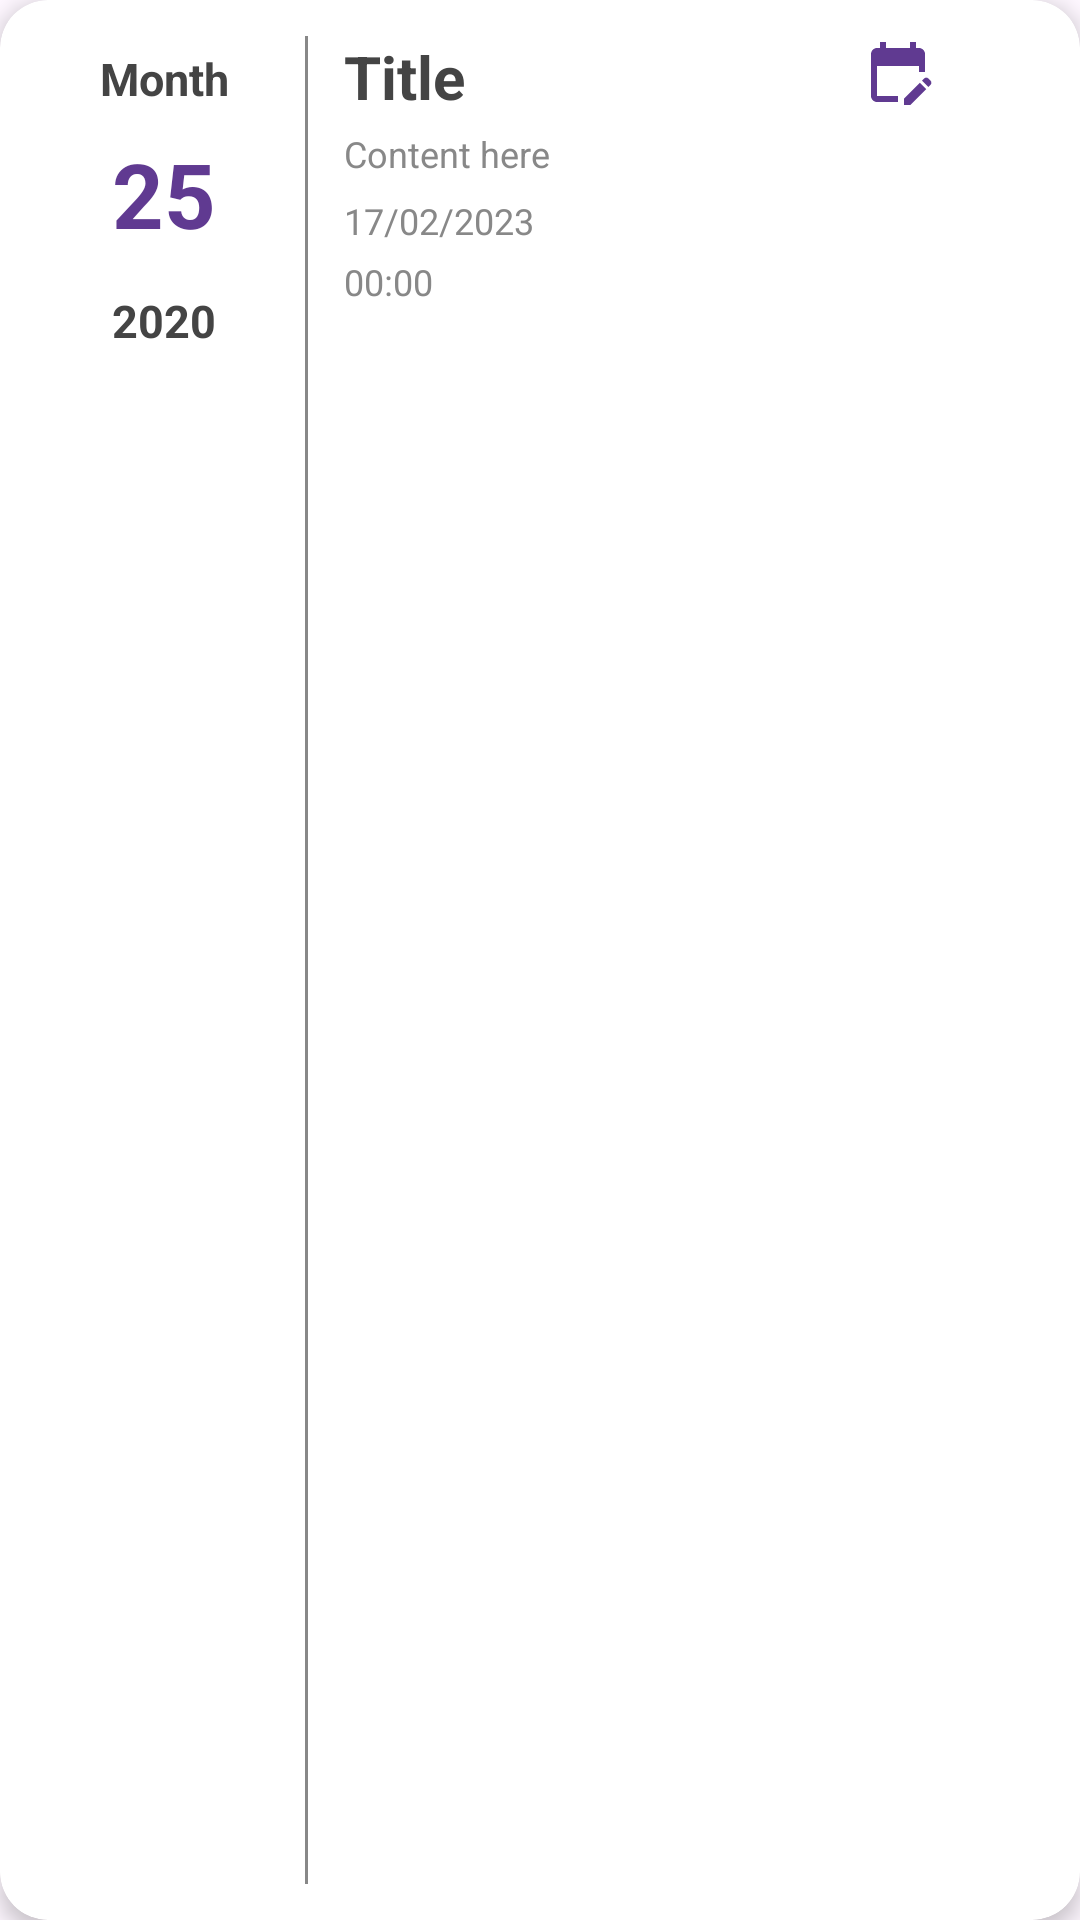

Point at icon controls on the screen. Image size 1080 × 1920, points as (x=x, y=y).
edit calendar: (x=901, y=73)
